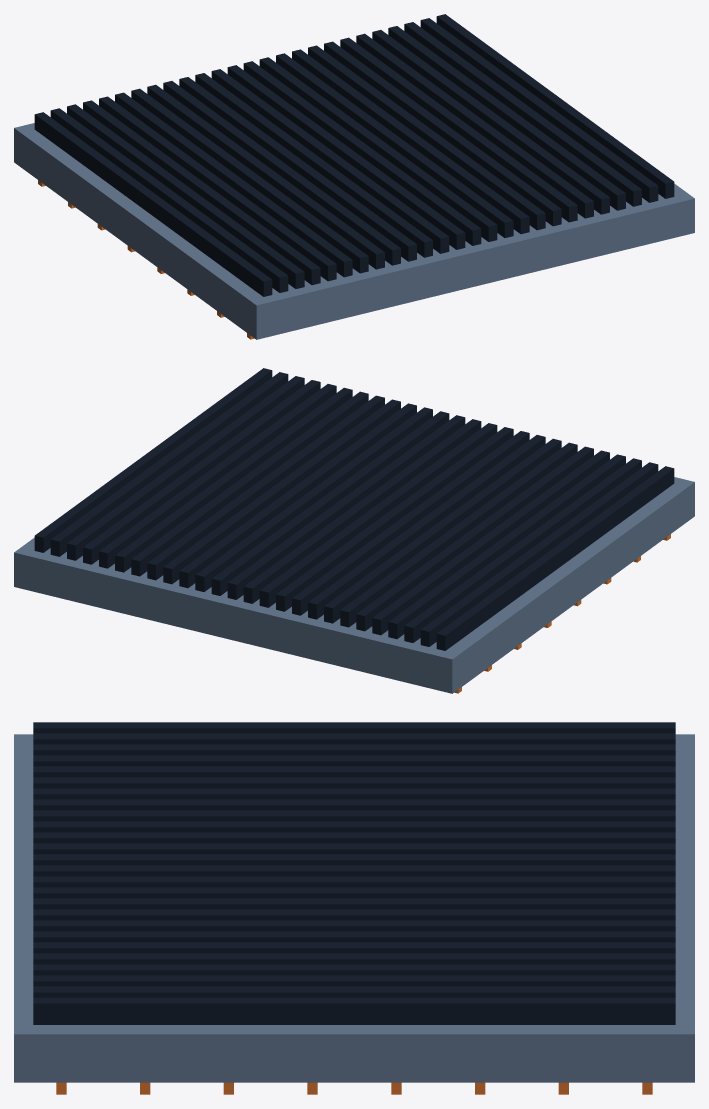
File: 24_L90_Aurora1ThermalRadiatorPort.fbx
3 views of the same model, one above another, from view 1: azimuth 30°, elevation 25°; view 2: azimuth 150°, elevation 25°; view 3: azimuth 270°, elevation 25° (orthographic). The views are drawn at different scales.
Visible parts, largest first — view 1: L90_Aurora1ThermalRadiatorPort_Part_0001, L90_Aurora1ThermalRadiatorPort_Part_0000, L90_Aurora1ThermalRadiatorPort_Part_0002; view 2: L90_Aurora1ThermalRadiatorPort_Part_0001, L90_Aurora1ThermalRadiatorPort_Part_0000, L90_Aurora1ThermalRadiatorPort_Part_0002; view 3: L90_Aurora1ThermalRadiatorPort_Part_0001, L90_Aurora1ThermalRadiatorPort_Part_0002, L90_Aurora1ThermalRadiatorPort_Part_0000, L90_Aurora1ThermalRadiatorPort_Part_0003.
Boxes of the visible parts, bbox=[...] form: L90_Aurora1ThermalRadiatorPort_Part_0001: bbox=[34, 41, 561, 296]; L90_Aurora1ThermalRadiatorPort_Part_0000: bbox=[14, 123, 694, 339]; L90_Aurora1ThermalRadiatorPort_Part_0002: bbox=[340, 14, 674, 222]; L90_Aurora1ThermalRadiatorPort_Part_0001: bbox=[147, 395, 674, 650]; L90_Aurora1ThermalRadiatorPort_Part_0000: bbox=[14, 477, 694, 693]; L90_Aurora1ThermalRadiatorPort_Part_0002: bbox=[34, 368, 368, 576]; L90_Aurora1ThermalRadiatorPort_Part_0001: bbox=[33, 722, 675, 931]; L90_Aurora1ThermalRadiatorPort_Part_0002: bbox=[33, 931, 675, 1024]; L90_Aurora1ThermalRadiatorPort_Part_0000: bbox=[14, 734, 694, 1082]; L90_Aurora1ThermalRadiatorPort_Part_0003: bbox=[56, 1082, 652, 1094].
Size of the model in its own units: 240 by 32.8 by 230.
